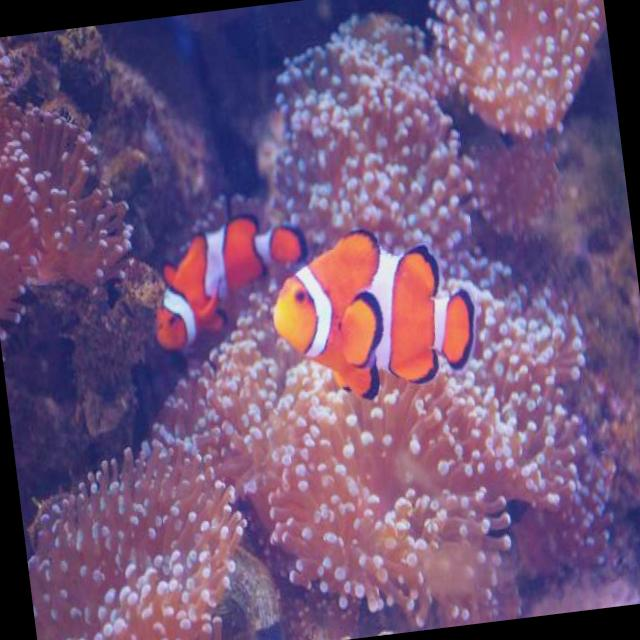ClownFish: (265, 218, 487, 410), (144, 212, 312, 346)
